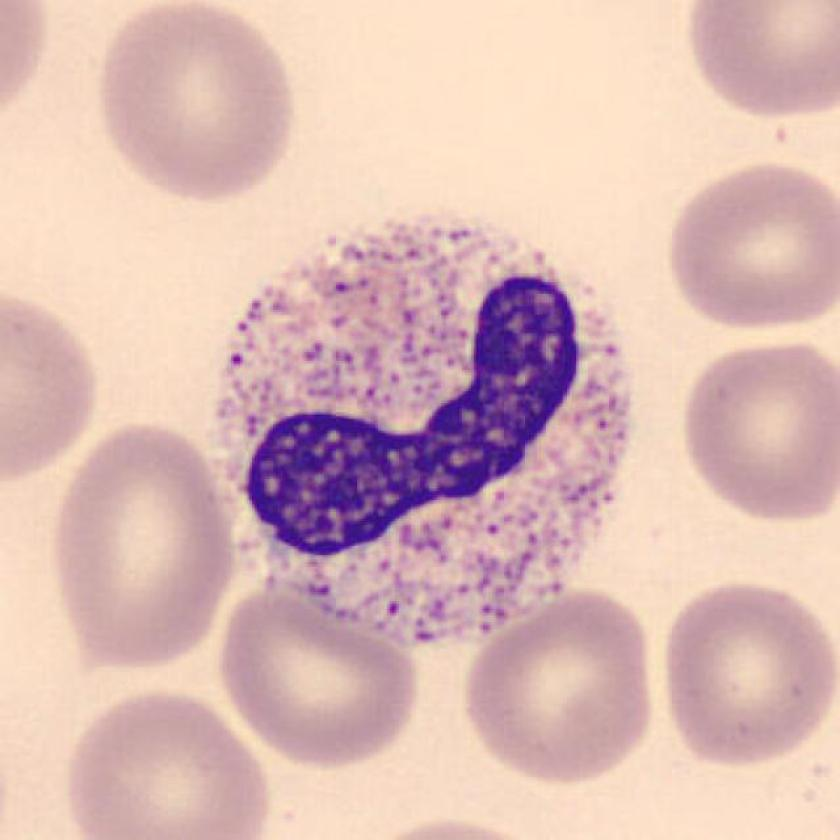neutrophil: (203, 209, 635, 650)
